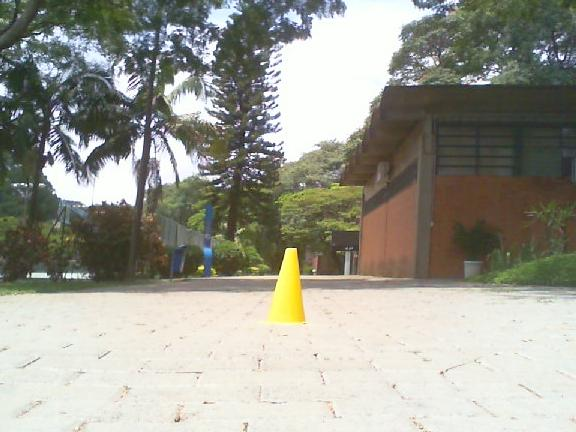0 cone: (263, 247, 306, 326)
